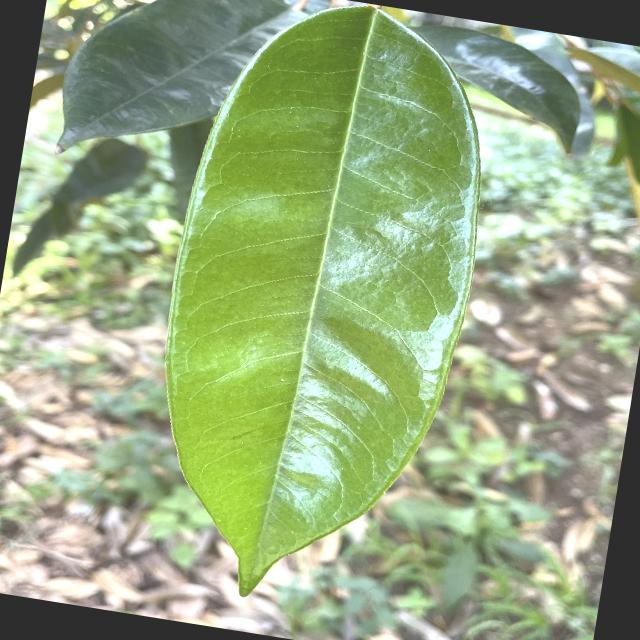No Disease: (111, 0, 523, 637)
